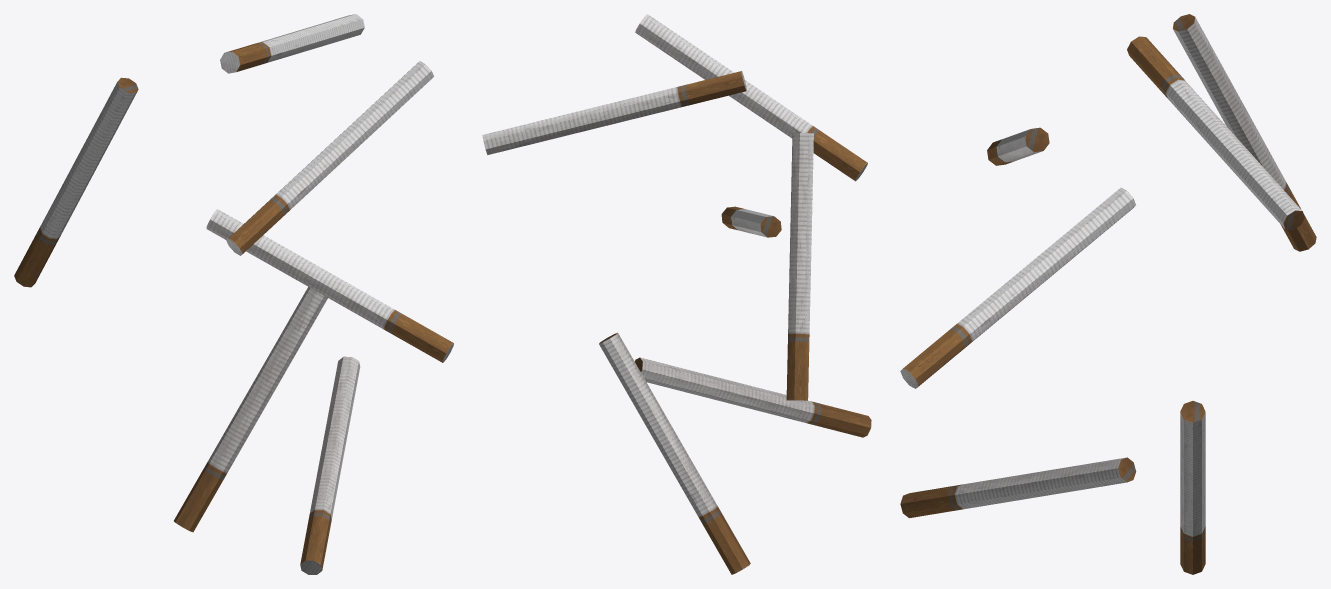
The model's file is Cigarettes.fbx.
3 renders of one model, left to right at view 1: azimuth 30°, elevation 25°; view 2: azimuth 150°, elevation 25°; view 3: azimuth 270°, elevation 25°, orthographic. The views are drawn at different scales.
Visible parts, largest first — view 1: pCylinder1, pCylinder3, pCylinder4, pCylinder6, pCylinder2, pCylinder5; view 2: pCylinder1, pCylinder6, pCylinder5, pCylinder2, pCylinder4, pCylinder3; view 3: pCylinder3, pCylinder5, pCylinder2, pCylinder6, pCylinder1, pCylinder4.
Boxes of the visible parts, x1,y1,x2,y2 form: pCylinder1: [174, 287, 327, 532]; pCylinder3: [206, 209, 453, 362]; pCylinder4: [226, 61, 433, 255]; pCylinder6: [14, 77, 138, 287]; pCylinder2: [300, 356, 360, 574]; pCylinder5: [220, 14, 364, 73]; pCylinder1: [599, 332, 750, 574]; pCylinder6: [786, 132, 813, 400]; pCylinder5: [482, 71, 746, 154]; pCylinder2: [634, 357, 871, 437]; pCylinder4: [635, 14, 867, 181]; pCylinder3: [721, 206, 781, 237]; pCylinder3: [900, 187, 1135, 388]; pCylinder5: [1127, 36, 1304, 230]; pCylinder2: [900, 457, 1136, 518]; pCylinder6: [1172, 14, 1316, 251]; pCylinder1: [1180, 401, 1205, 574]; pCylinder4: [987, 127, 1049, 165].
Bounding box in the file's own units: 12.9 × 17.89 × 12.33.
